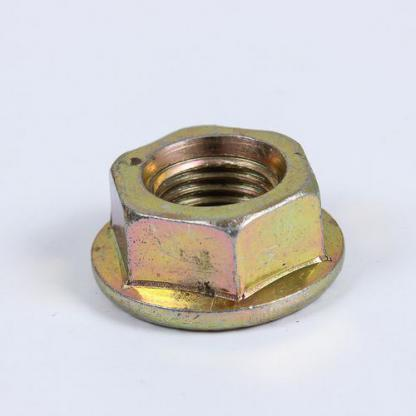FOD: (88, 122, 349, 334)
